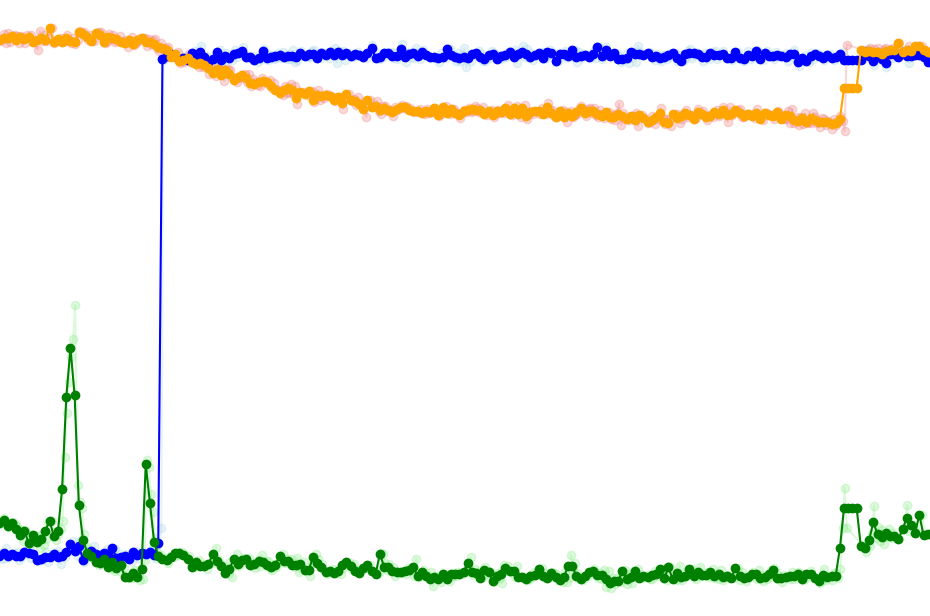Condensation (CO2): (99, 0, 927, 616)
Condensation (O2): (802, 0, 927, 616)
High O2: (99, 0, 802, 616)
Normal: (0, 0, 927, 616), (0, 0, 99, 616)
